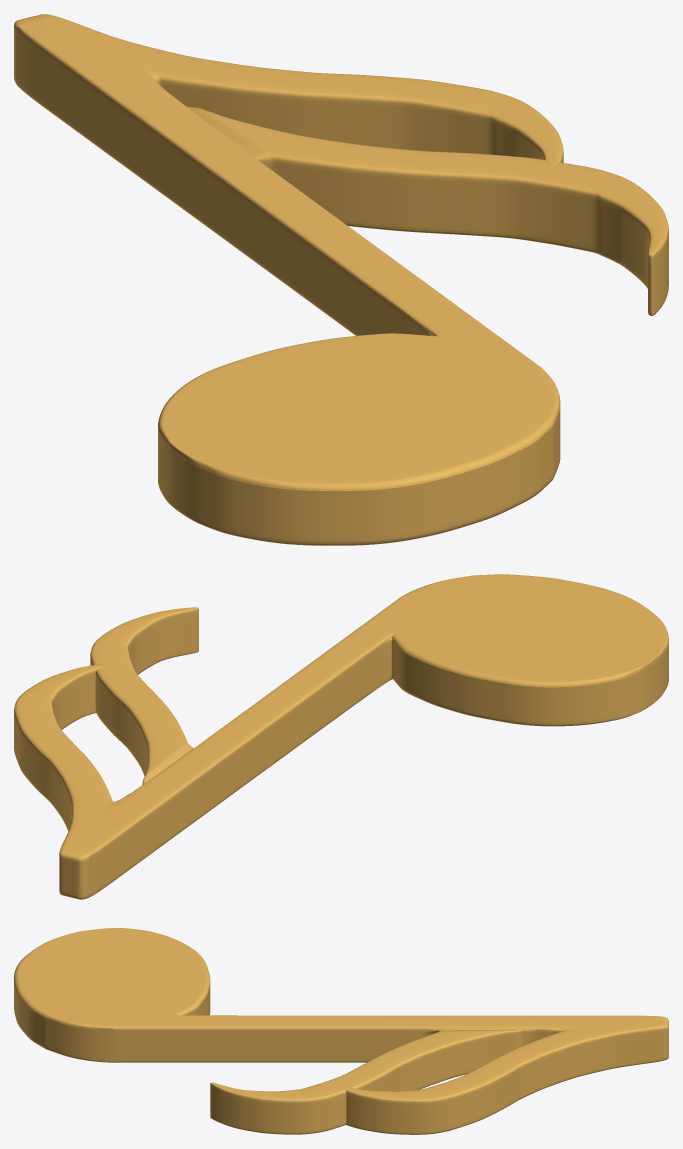
File: note4.fbx
3 renders of one model, top to bottom at view 1: azimuth 30°, elevation 25°; view 2: azimuth 150°, elevation 25°; view 3: azimuth 270°, elevation 25°, orthographic. The views are drawn at different scales.
Parts seen in each view (by area): view 1: Note-1.001; view 2: Note-1.001; view 3: Note-1.001.
Part boxes in pixels (x1,y1,x2,y2): Note-1.001: (14,14,668,545); Note-1.001: (14,574,668,899); Note-1.001: (14,928,668,1134).
Bounding box in the file's own units: 163 × 15.68 × 261.
